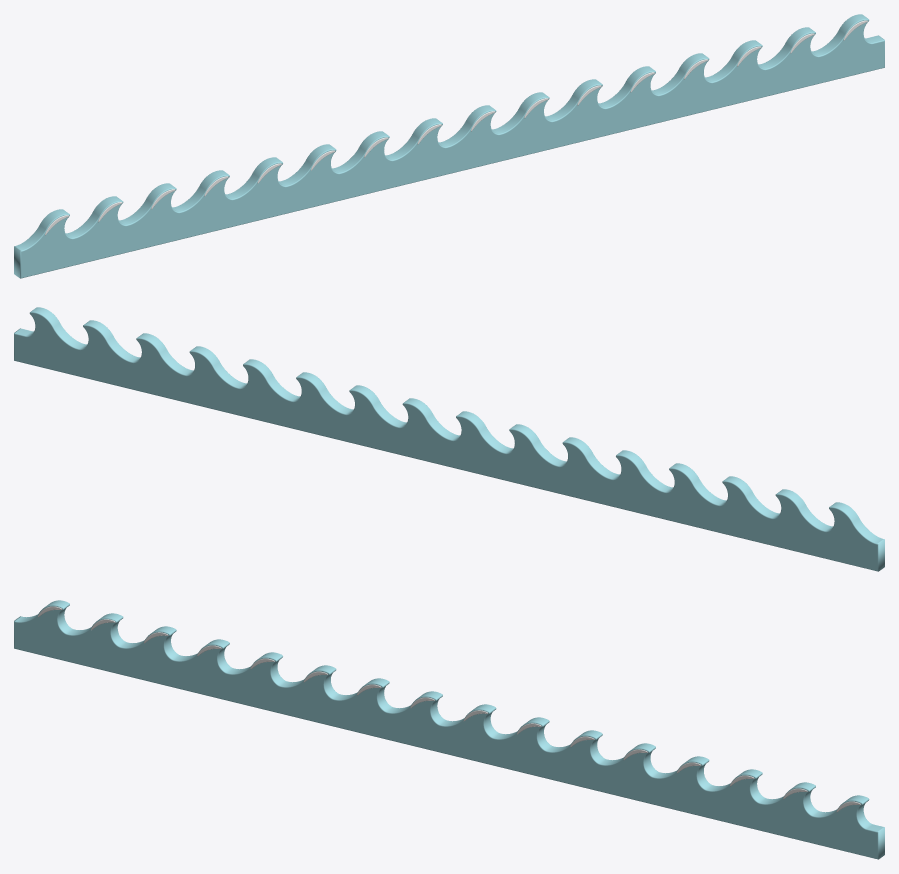
File: wave.glb
3 renders of one model, top to bottom at view 1: azimuth 30°, elevation 25°; view 2: azimuth 150°, elevation 25°; view 3: azimuth 330°, elevation 25°, orthographic.
Visible parts, largest first — view 1: Curve.192, Curve.191; view 2: Curve.192; view 3: Curve.192, Curve.191.
Part boxes in pixels (bbox=[...]): Curve.192: bbox=[14, 14, 884, 278]; Curve.191: bbox=[45, 20, 867, 235]; Curve.192: bbox=[14, 307, 884, 571]; Curve.192: bbox=[14, 600, 884, 859]; Curve.191: bbox=[38, 606, 860, 812].
Bounding box in the file's own units: 20.72 × 1.23 × 0.3007.
